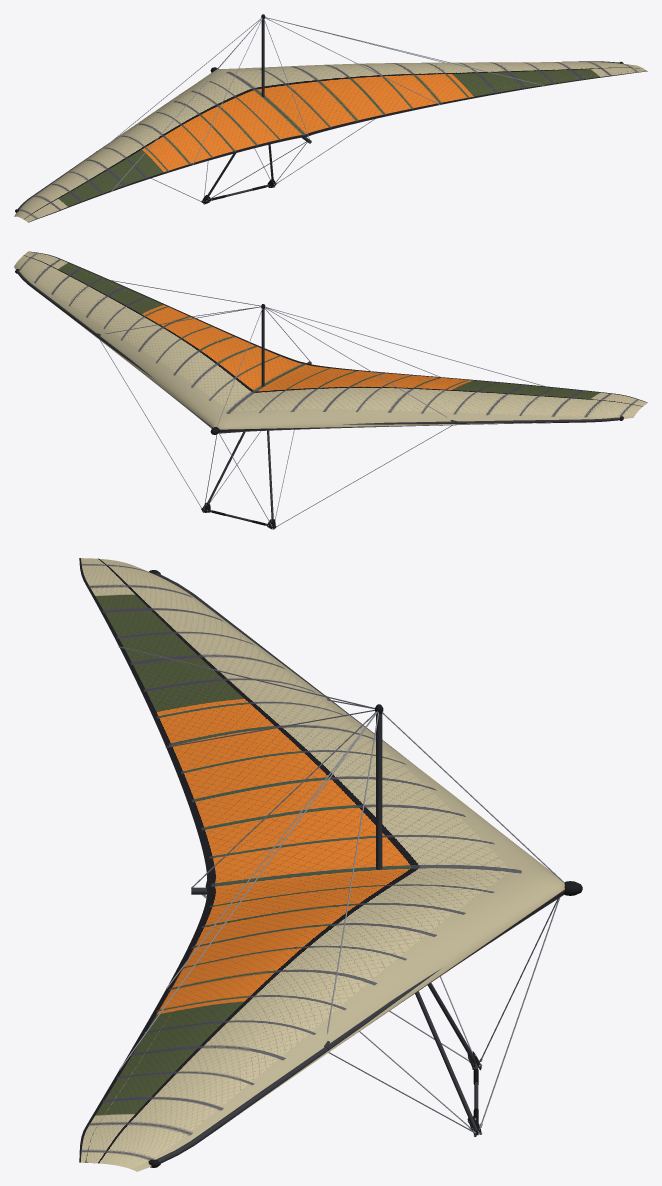
File: trike_wing.glb
3 renders of one model, top to bottom at view 1: azimuth 30°, elevation 25°; view 2: azimuth 150°, elevation 25°; view 3: azimuth 270°, elevation 25°, orthographic. The views are drawn at different scales.
Visible parts, largest first — view 1: Sail, Frame, ControlFrame; view 2: Sail, Frame, ControlFrame; view 3: Sail, Frame, ControlFrame.
Boxes of the visible parts, box(x1,y1,x2,y2) form: Sail: box(14, 62, 647, 222); Frame: box(15, 14, 623, 212); ControlFrame: box(151, 119, 374, 204); Sail: box(14, 251, 647, 433); Frame: box(15, 269, 623, 434); ControlFrame: box(100, 340, 452, 529); Sail: box(79, 558, 564, 1171); Frame: box(119, 570, 582, 1167); ControlFrame: box(202, 894, 560, 1136).
Size of the model in its own units: 10 by 3.08 by 3.52.
8 materials, 1 textured.
